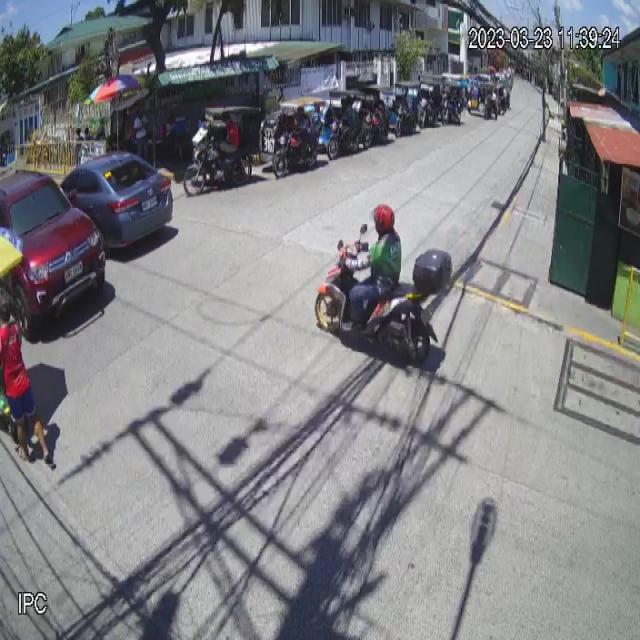Car: (1, 165, 105, 336), (53, 155, 173, 243)
Motorcycle: (314, 224, 452, 368)
